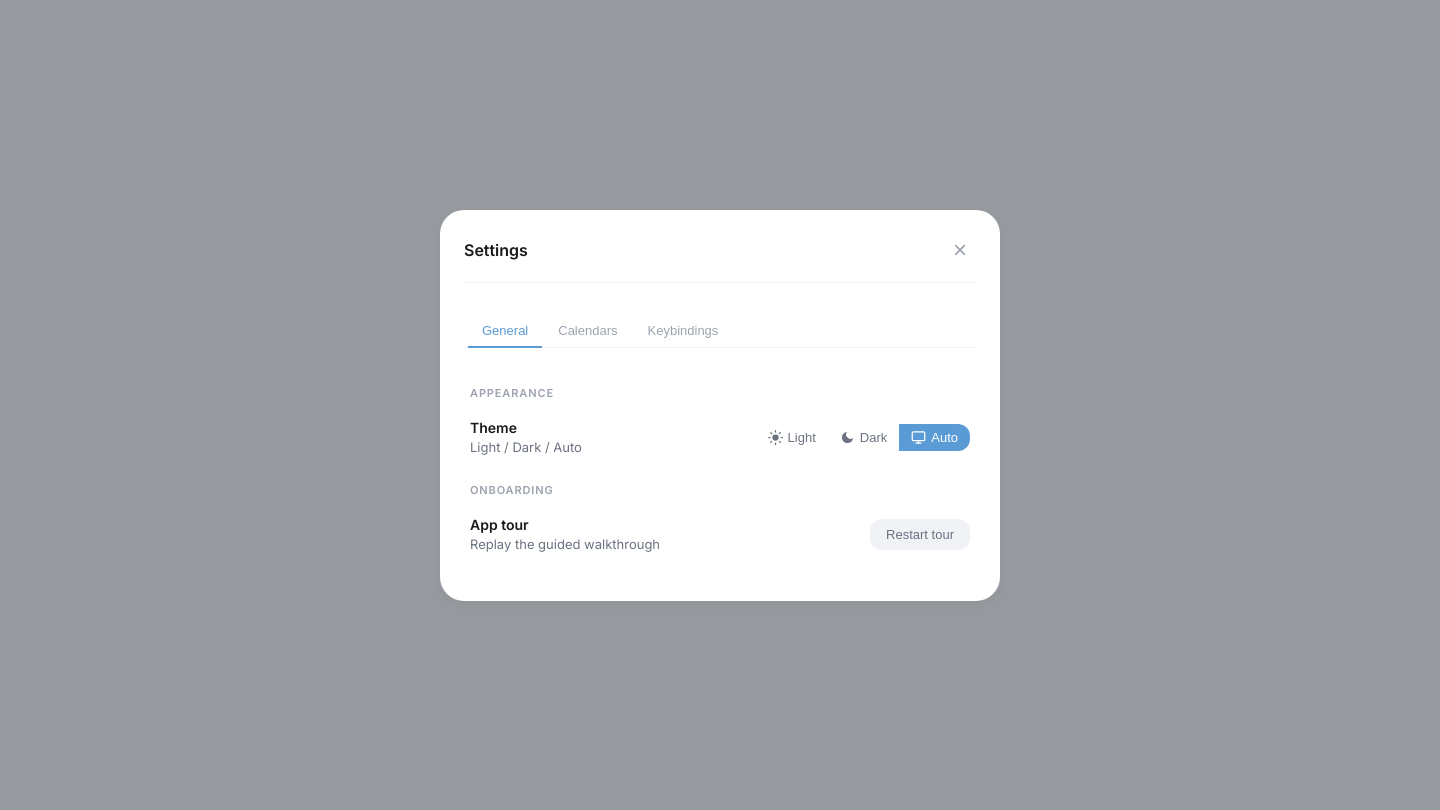
Test: SettingsModal — calendars tab › loads Google accounts on open
Click the button "Calendars" at (588, 331), box [544,314,632,348]
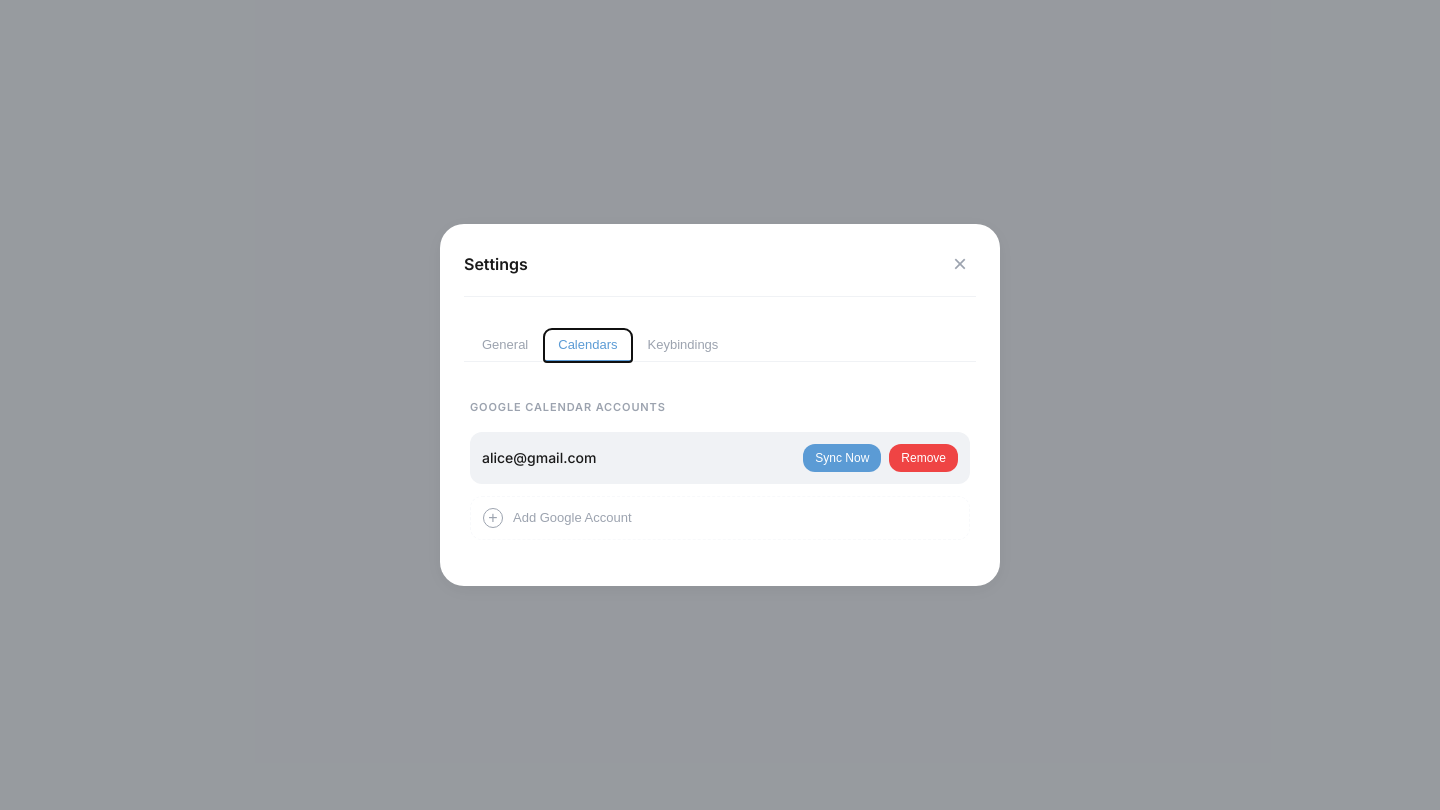
Result: the text "alice@gmail.com" is shown at [482,449,596,466]
